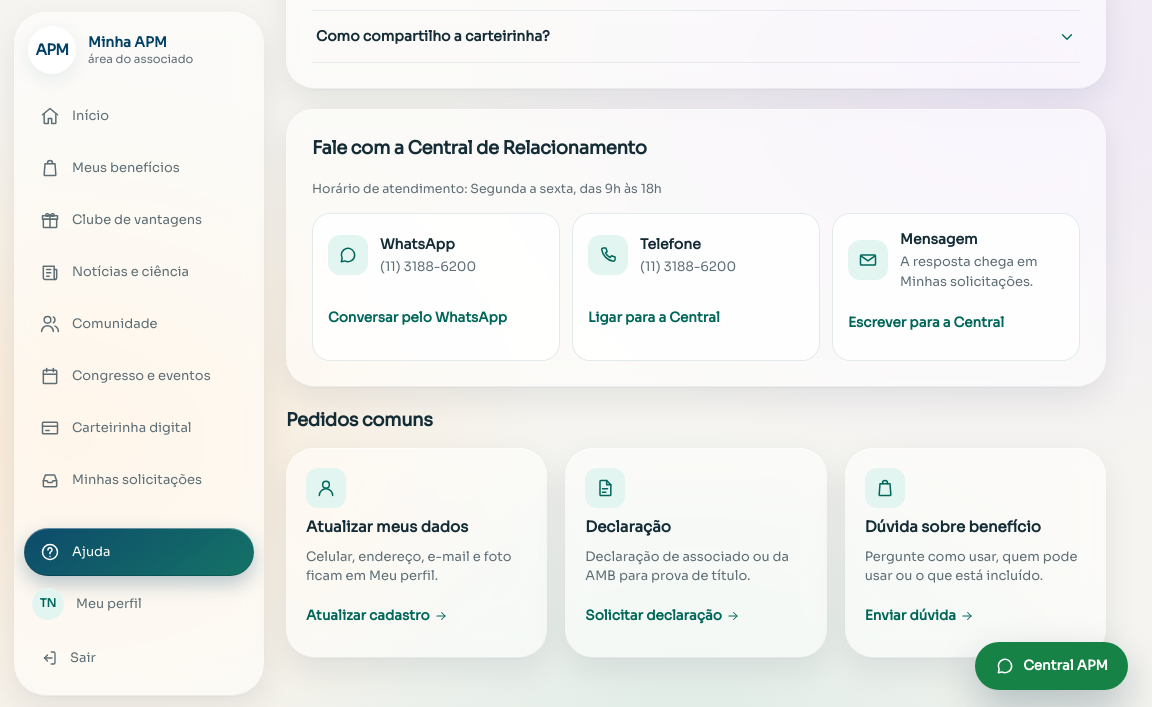
Test: Ajuda e atendimento (P14; RF-AJ-01..05) › declaração: finalidades da spec e 409 nao_elegivel mostra "Libera em dd/mm/aaaa"
This screenshot has width=1152, height=707.
(page scrolled)
Click the button "Solicitar declaração" at (696, 616), box [585,594,807,638]
(page scrolled)
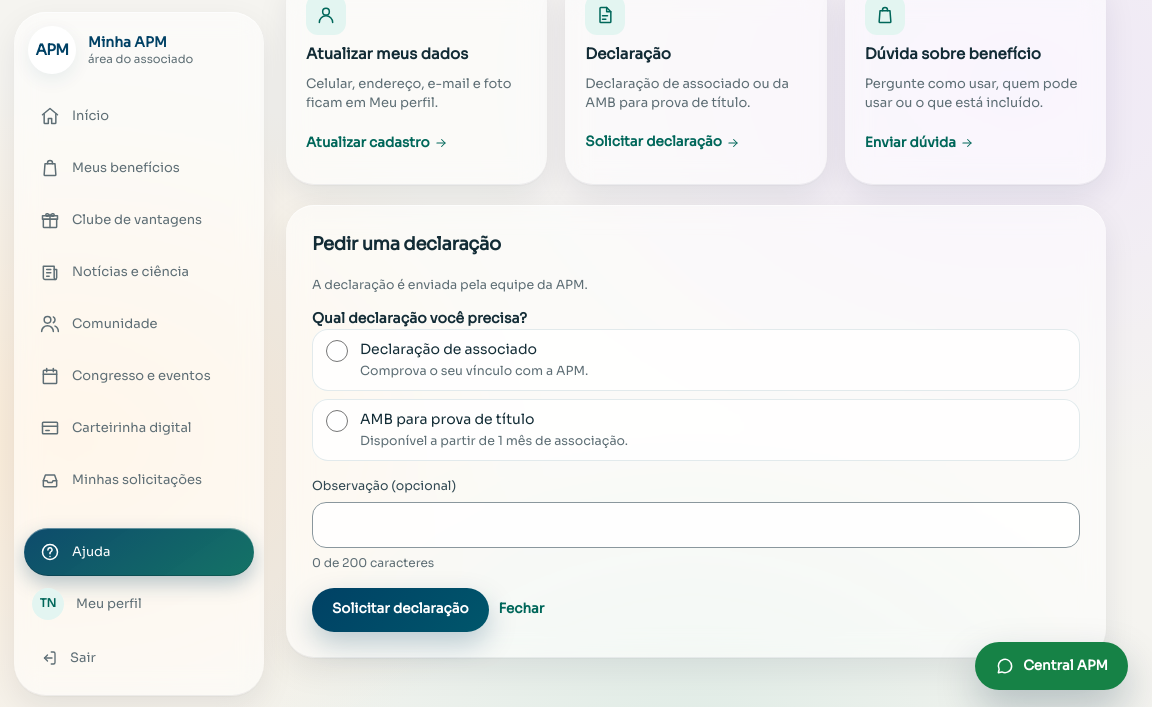
Now the radio button labelled "Declaração de associado Comprova o seu vínculo com a APM." is shown, box [326,340,348,362]
Click the radio button labelled "AMB para prova de título" at (337, 421), box [326,410,348,432]
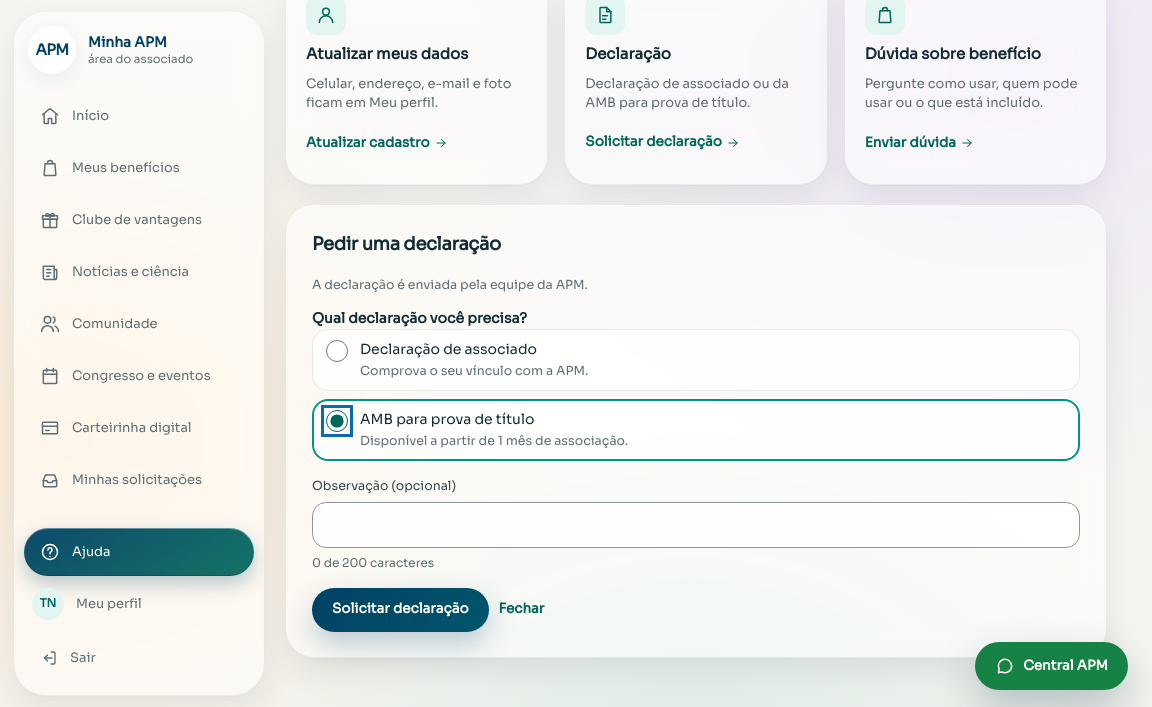
Click the button "Solicitar declaração" below "0 de 200 caracteres" at (400, 610), box [312,588,489,632]
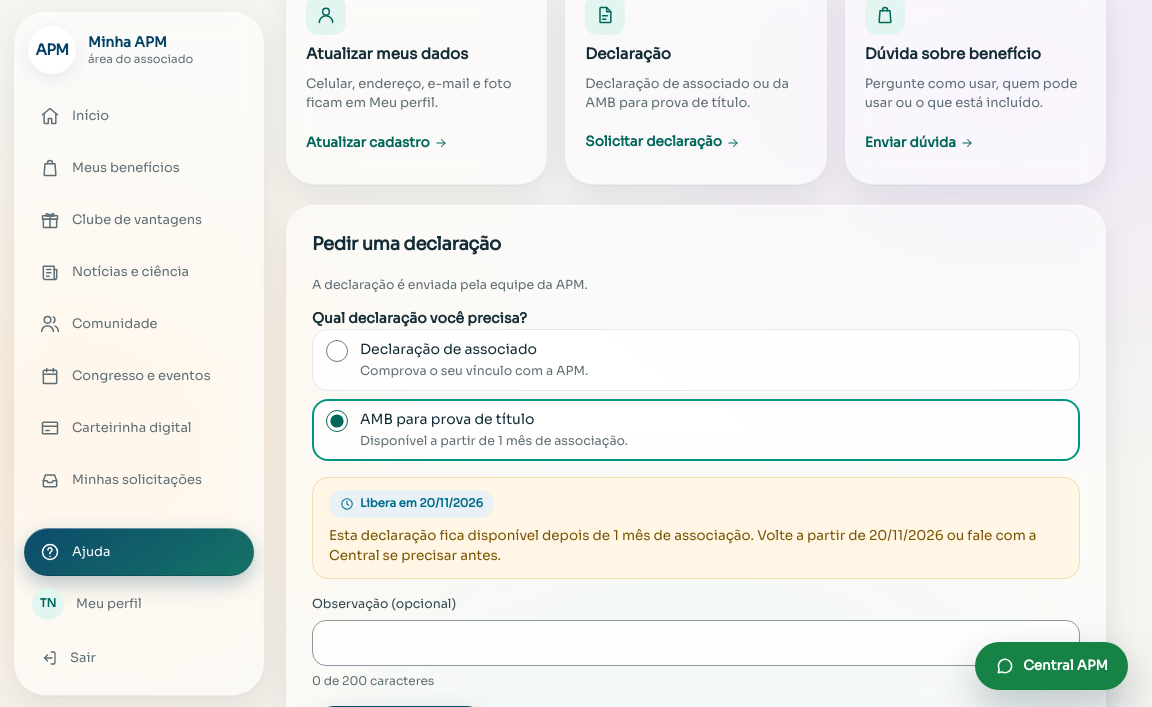
Now the text "Libera em 20/11/2026" is shown, box [360,497,483,511]
